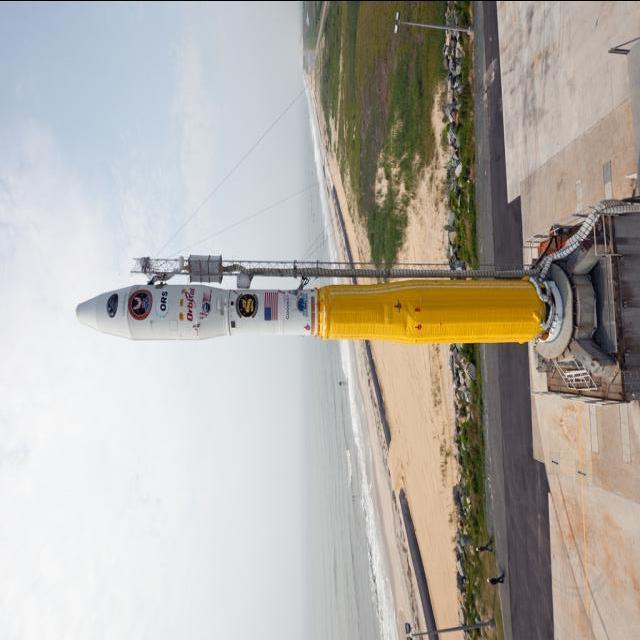missile: (61, 273, 606, 357)
